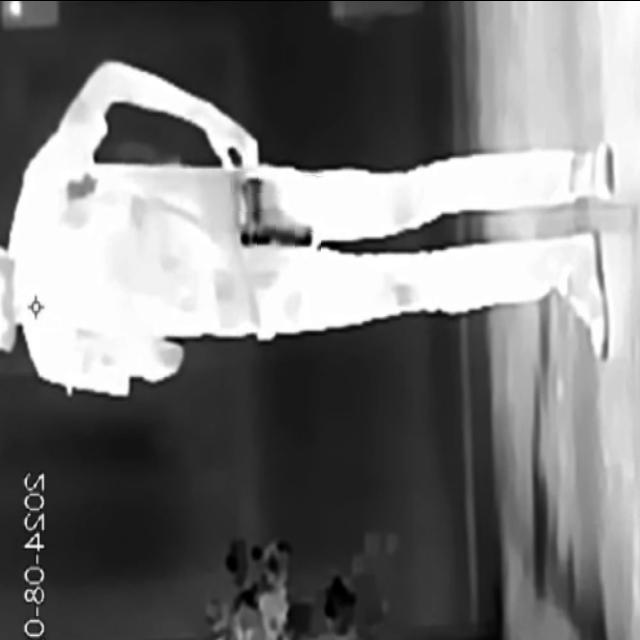Weapon: (229, 171, 323, 270)
